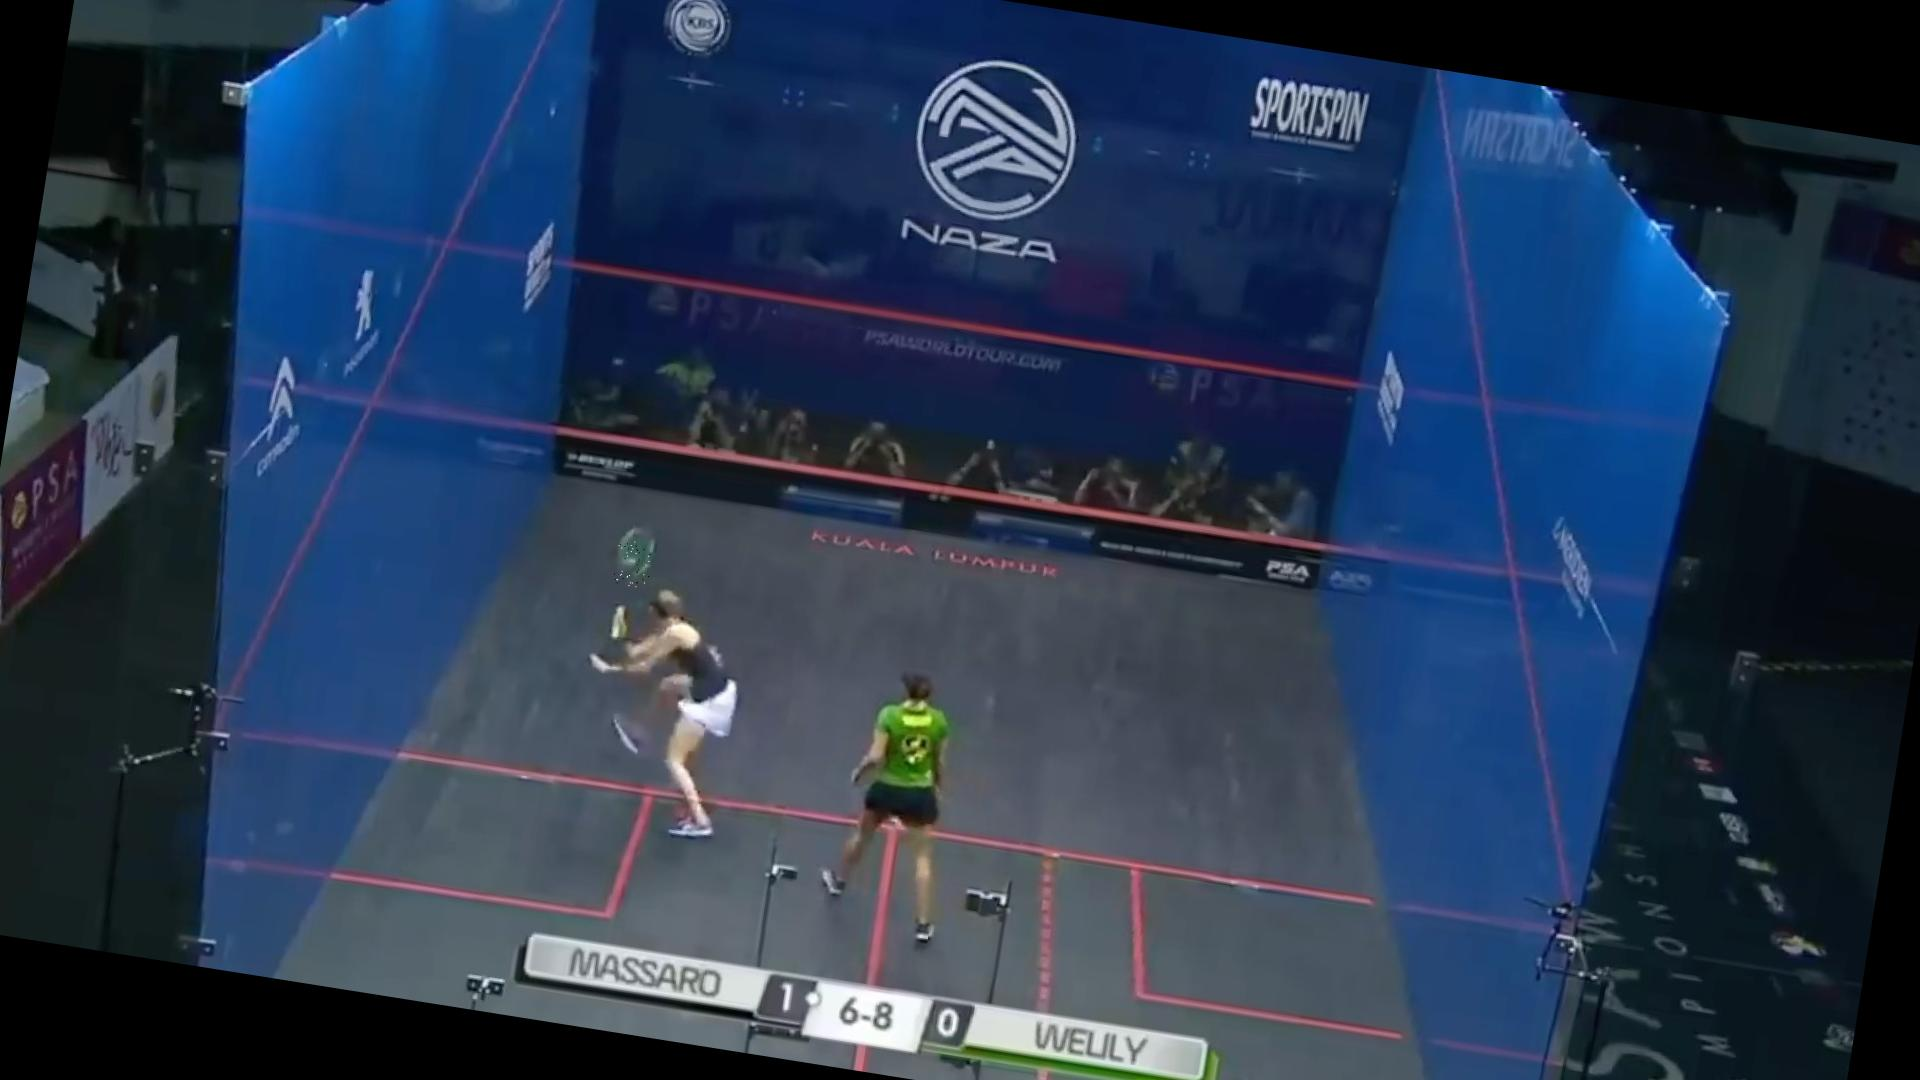Squash-Ball: (612, 538, 654, 588)
